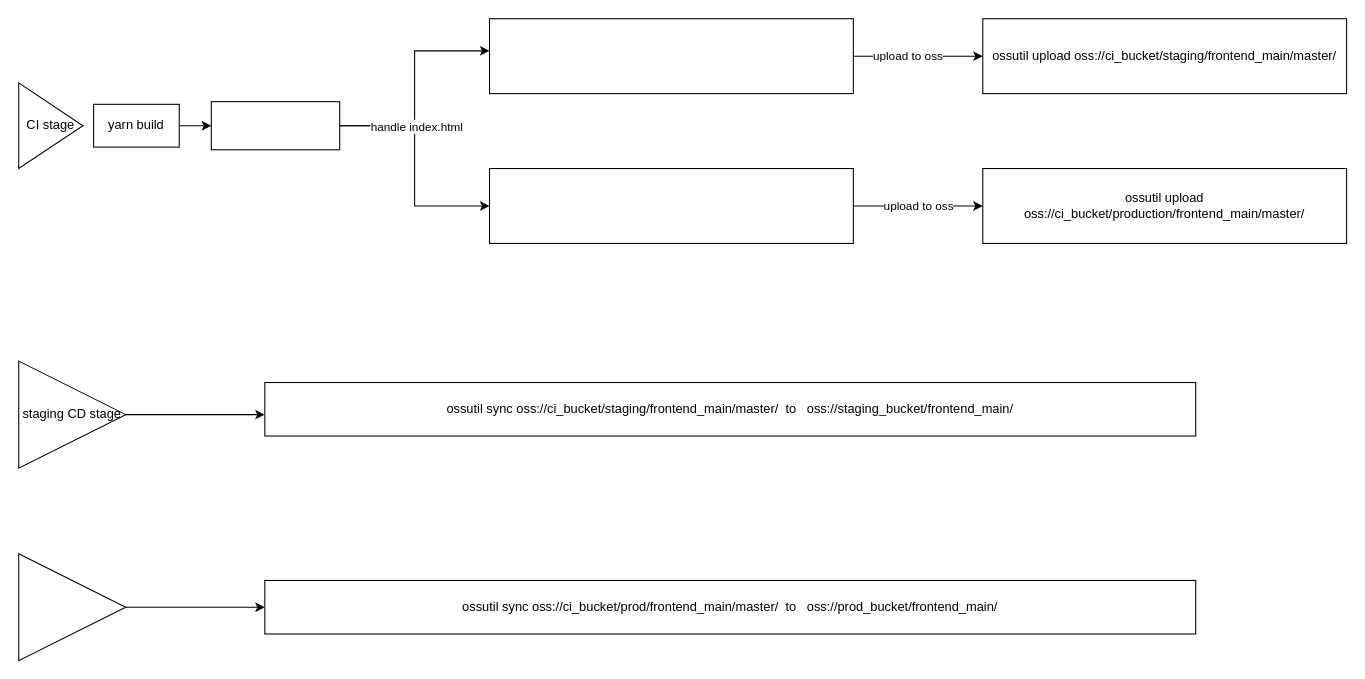
Image size: 1365x679. Some labels were removed from this diagram. The shapes that lost their labels are listed below. From the top down, each one's box as (x1, y1, x2, y2) in pixels, then its label:
(488, 18, 853, 94): <html> <script src="oss://staging/env.js" /> ... </html>
(210, 101, 340, 150): add-env.sh
(488, 167, 853, 243): <html> <script src="oss://prod/env.js" /> ... </html>
(18, 553, 126, 661): prod CD stage
